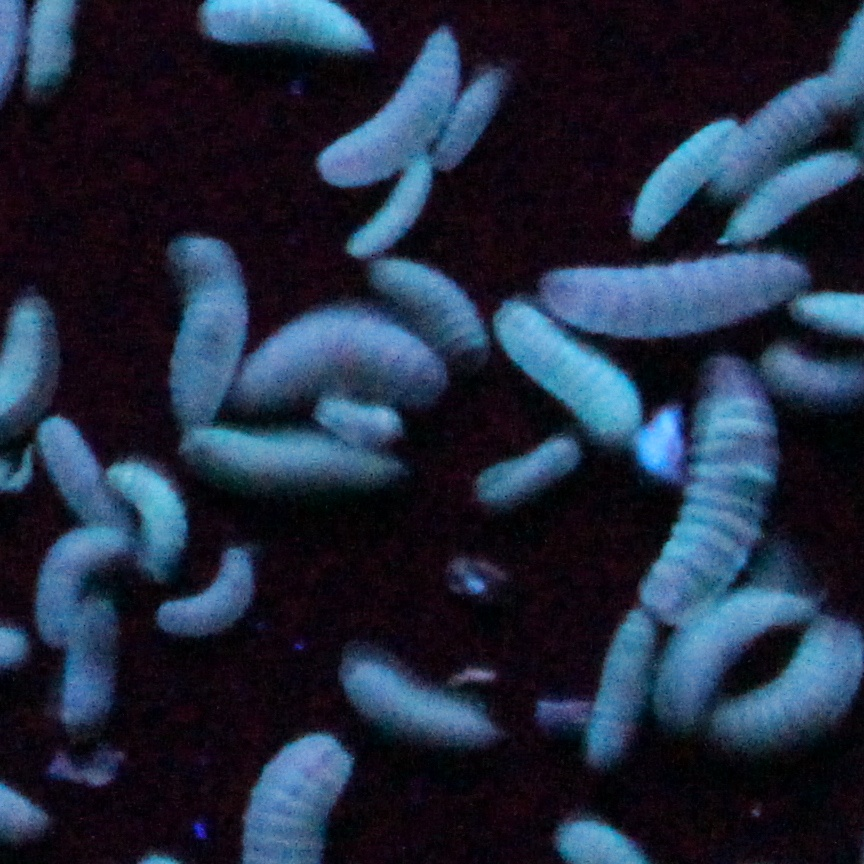larve: (639, 369, 794, 603), (307, 16, 460, 185), (219, 312, 462, 414), (653, 571, 821, 714), (482, 294, 650, 435), (544, 260, 819, 337), (337, 653, 521, 750), (166, 232, 248, 430), (616, 123, 748, 239), (707, 85, 844, 194), (364, 248, 496, 353), (728, 150, 864, 241), (580, 600, 648, 771), (153, 530, 262, 635), (28, 419, 123, 535), (35, 523, 121, 644), (50, 598, 130, 723), (107, 450, 185, 569), (346, 157, 430, 262), (421, 73, 507, 173), (473, 439, 578, 498)
